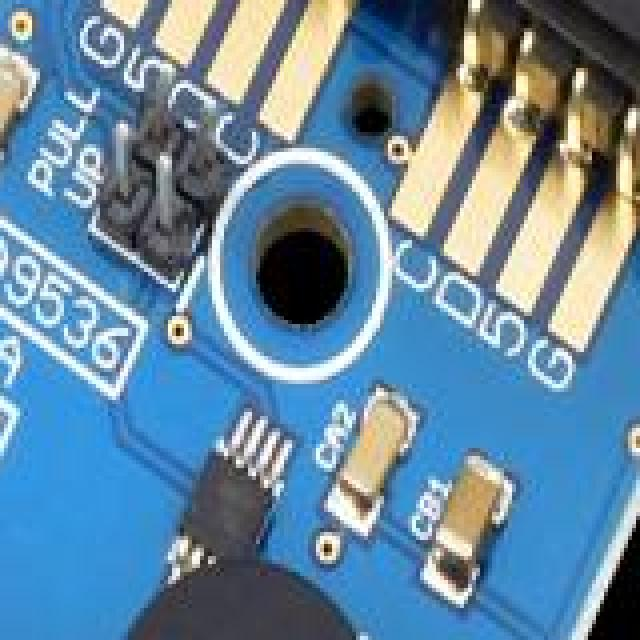IC: (136, 412, 300, 606)
buzzer: (100, 552, 384, 640)
capacitor: (422, 451, 518, 609), (333, 385, 425, 537), (0, 46, 41, 171)
connector: (80, 72, 226, 280), (464, 0, 640, 135), (0, 576, 40, 640)
